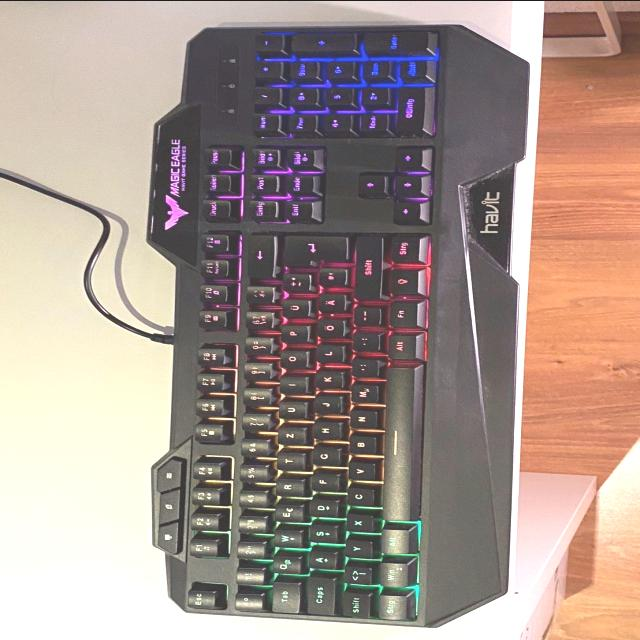0: (242, 337, 272, 356)
1: (233, 568, 263, 586)
2: (234, 543, 264, 561)
3: (234, 517, 266, 535)
4: (235, 491, 267, 509)
5: (235, 465, 269, 484)
6: (237, 439, 269, 459)
7: (238, 414, 270, 433)
8: (239, 389, 271, 408)
9: (239, 362, 271, 382)
a: (306, 551, 336, 571)
accent: (243, 286, 273, 306)
ae: (315, 294, 345, 314)
alt-left: (379, 529, 411, 556)
altgr-right: (386, 334, 417, 361)
b: (347, 435, 377, 457)
c: (345, 488, 375, 508)
caret: (232, 593, 262, 611)
comma: (349, 359, 377, 378)
d: (307, 499, 339, 519)
del: (242, 236, 274, 280)
e: (271, 505, 303, 524)
enter: (280, 236, 347, 268)
f: (309, 475, 339, 493)
g: (309, 447, 340, 467)
h: (310, 422, 340, 441)
hash: (316, 269, 346, 289)
i: (277, 376, 306, 396)
j: (312, 396, 342, 416)
k: (312, 371, 342, 391)
keyboard: (163, 19, 448, 629)
l: (313, 346, 343, 365)
less: (341, 566, 372, 587)
m: (348, 384, 379, 405)
minus: (351, 307, 380, 327)
n: (347, 409, 377, 431)
o: (278, 351, 308, 371)
oe: (315, 319, 343, 338)
p: (279, 325, 308, 345)
plus: (280, 274, 310, 294)
point: (351, 333, 378, 353)
q: (270, 556, 301, 576)
r: (273, 479, 303, 498)
s: (307, 525, 339, 545)
shift-left: (339, 591, 371, 619)
shift-lock: (304, 577, 335, 617)
shift-right: (353, 236, 381, 302)
space: (381, 367, 419, 525)
ss: (244, 312, 273, 330)
strg-left: (377, 595, 408, 622)
strg-right: (388, 235, 425, 265)
t: (273, 453, 303, 473)
tab: (269, 582, 299, 614)
u: (276, 401, 306, 421)
ue: (280, 299, 310, 319)
v: (345, 462, 375, 482)
w: (271, 530, 301, 549)
x: (344, 514, 374, 534)
y: (343, 540, 373, 560)
z: (275, 427, 305, 447)
